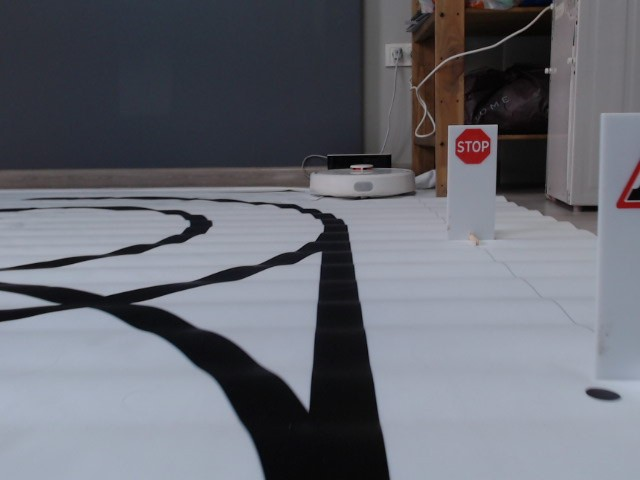Stop: (451, 126, 492, 167)
